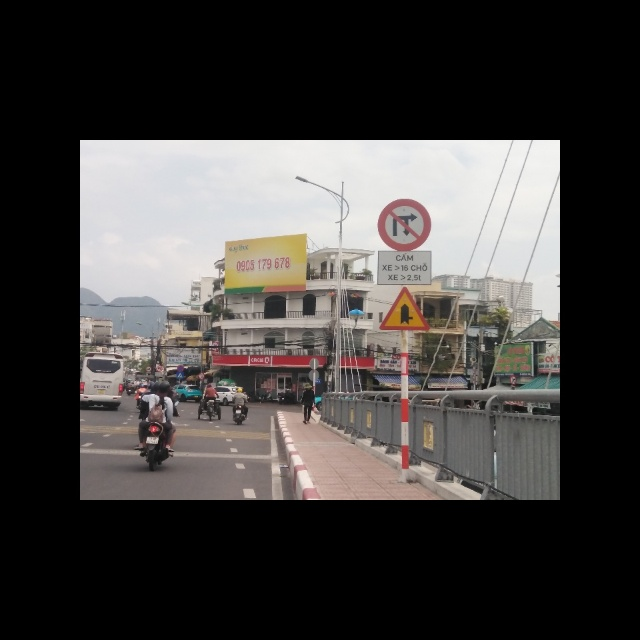Cấm quay đầu và rẽ phải: (376, 197, 433, 250)
Giao nhau với đường không ưu tiên: (378, 286, 433, 332)
